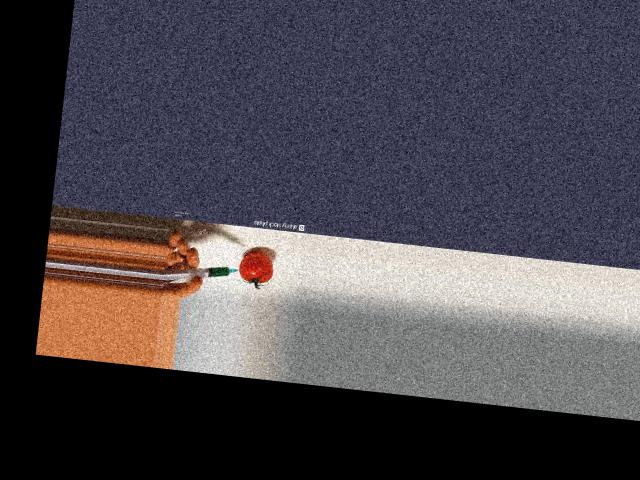tomato: (237, 250, 274, 283)
